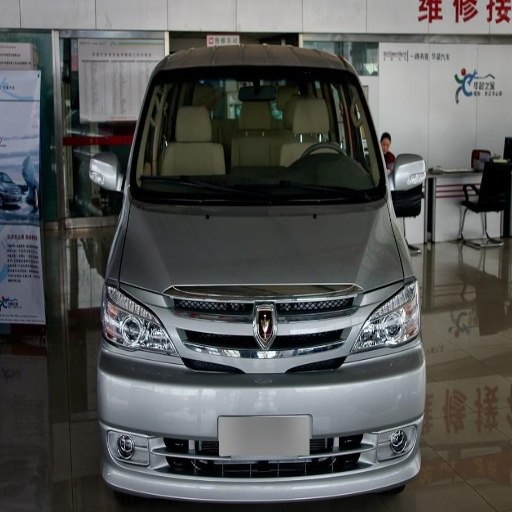front_bumper: (100, 281, 420, 501)
front_right_light: (101, 279, 173, 356)
hood: (115, 198, 406, 321)
left_mirror: (392, 153, 428, 216)
